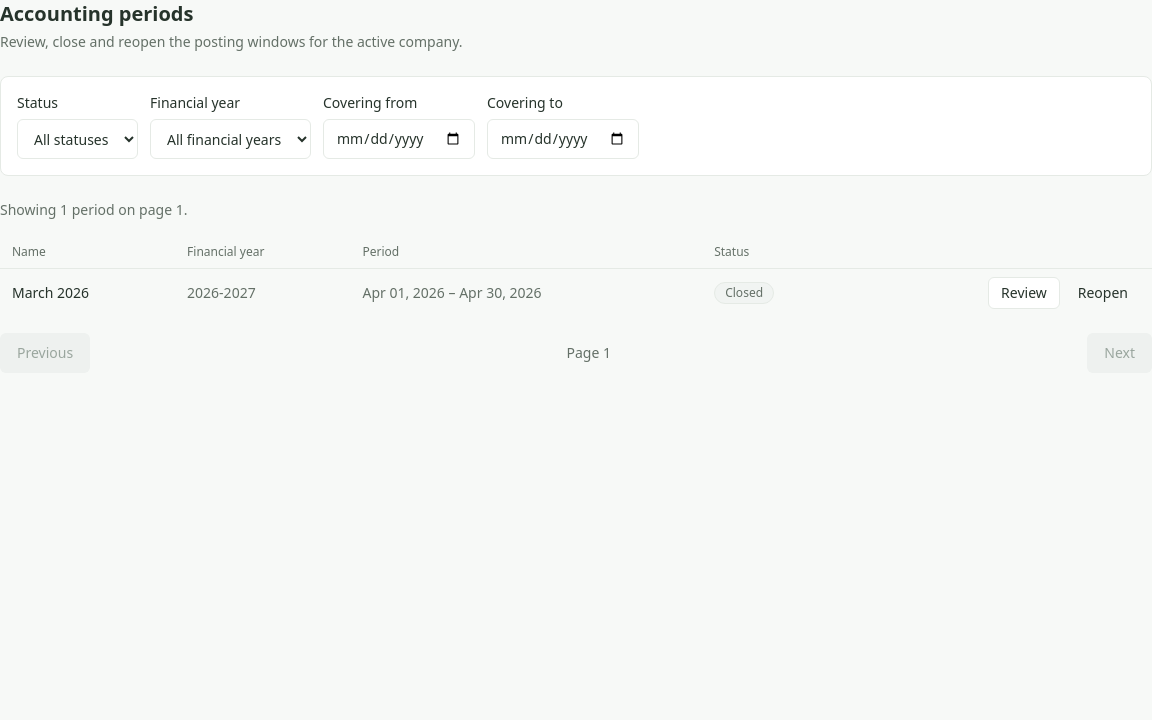
it: PeriodsView › offers reopen for a closed period only with the reopen permission
The image size is (1152, 720).
Click the button "Reopen": point(1103, 293) [1066,277,1140,309]
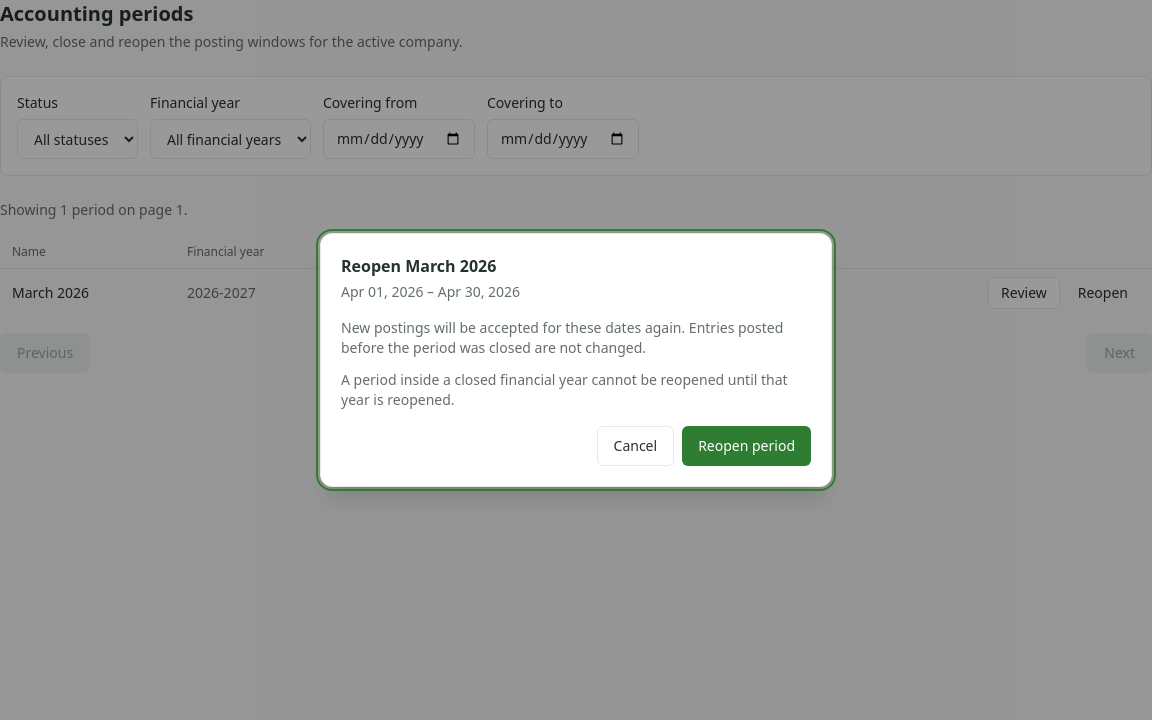
Result: the dialog "Reopen March 2026" is shown at [320,233,832,487]
